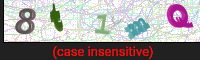1: (87, 10, 120, 36)
8: (13, 6, 41, 36)
Q: (166, 3, 197, 33)
m: (124, 16, 156, 39)
t: (47, 1, 75, 36)
